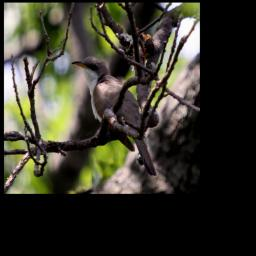Cuckoo: (70, 53, 157, 180)
